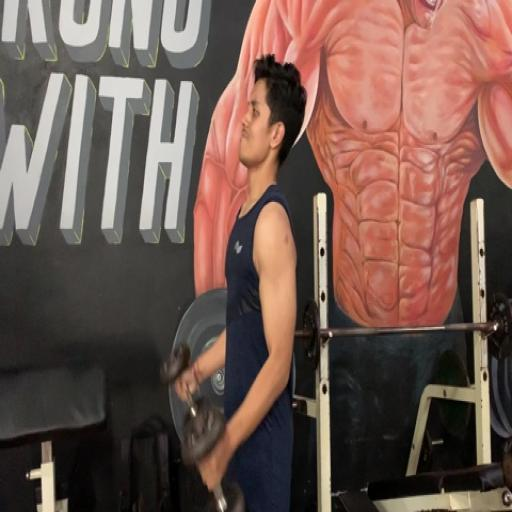exercise: (172, 52, 309, 510)
